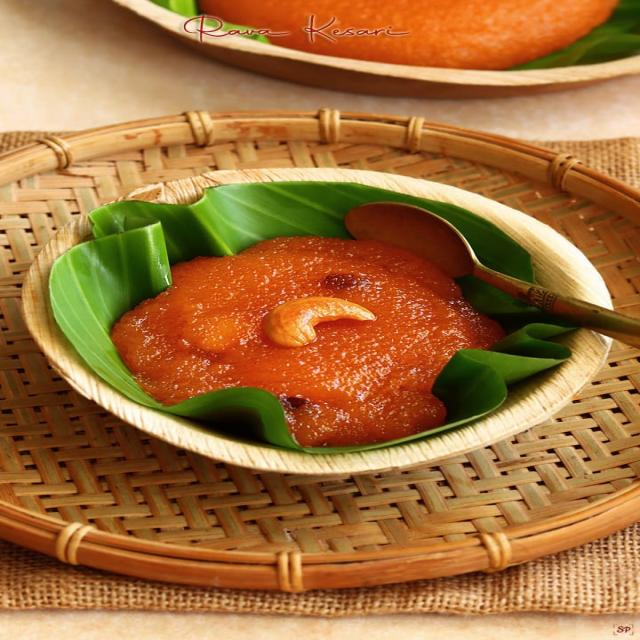kesari bath: (95, 222, 529, 464)
